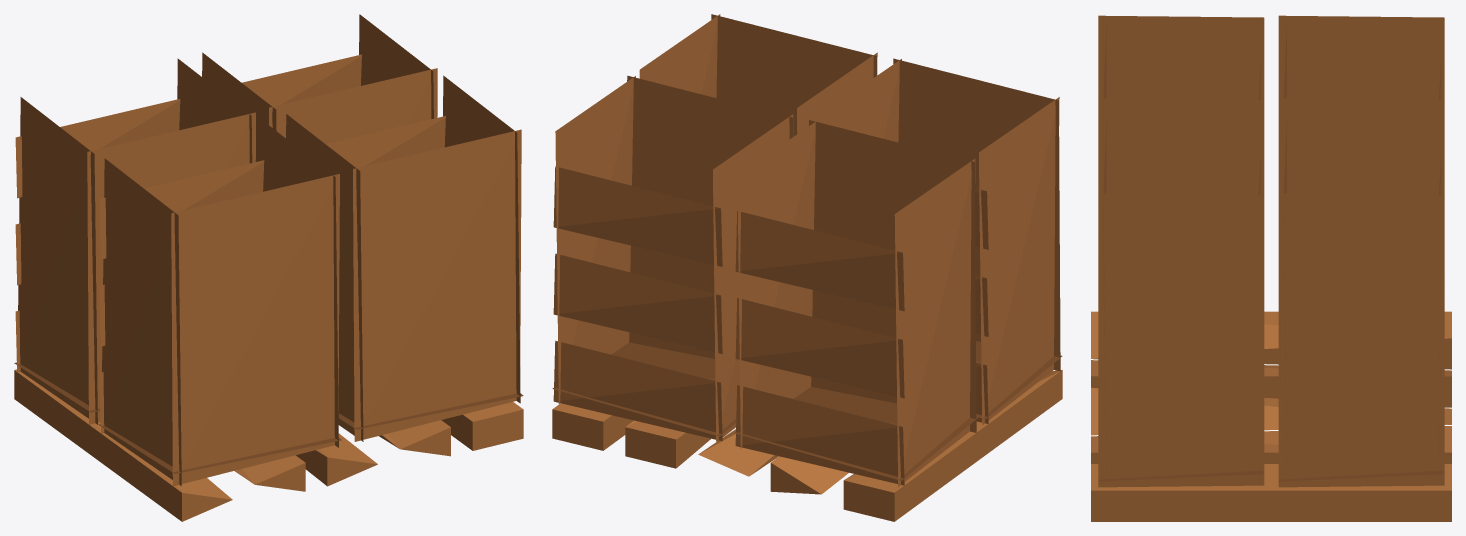
File: pallet_crates.fbx
3 views of the same model, side by side, from view 1: azimuth 30°, elevation 25°; view 2: azimuth 150°, elevation 25°; view 3: azimuth 270°, elevation 25° (orthographic). The views are drawn at different scales.
Parts seen in each view (by area): view 1: pallet_crates; view 2: pallet_crates; view 3: pallet_crates.
Part boxes in pixels (box(x1,y1,x2,y2)): pallet_crates: box(14, 14, 523, 521); pallet_crates: box(552, 14, 1062, 521); pallet_crates: box(1091, 15, 1451, 521).
Size of the model in its own units: 1.2 by 1 by 1.
